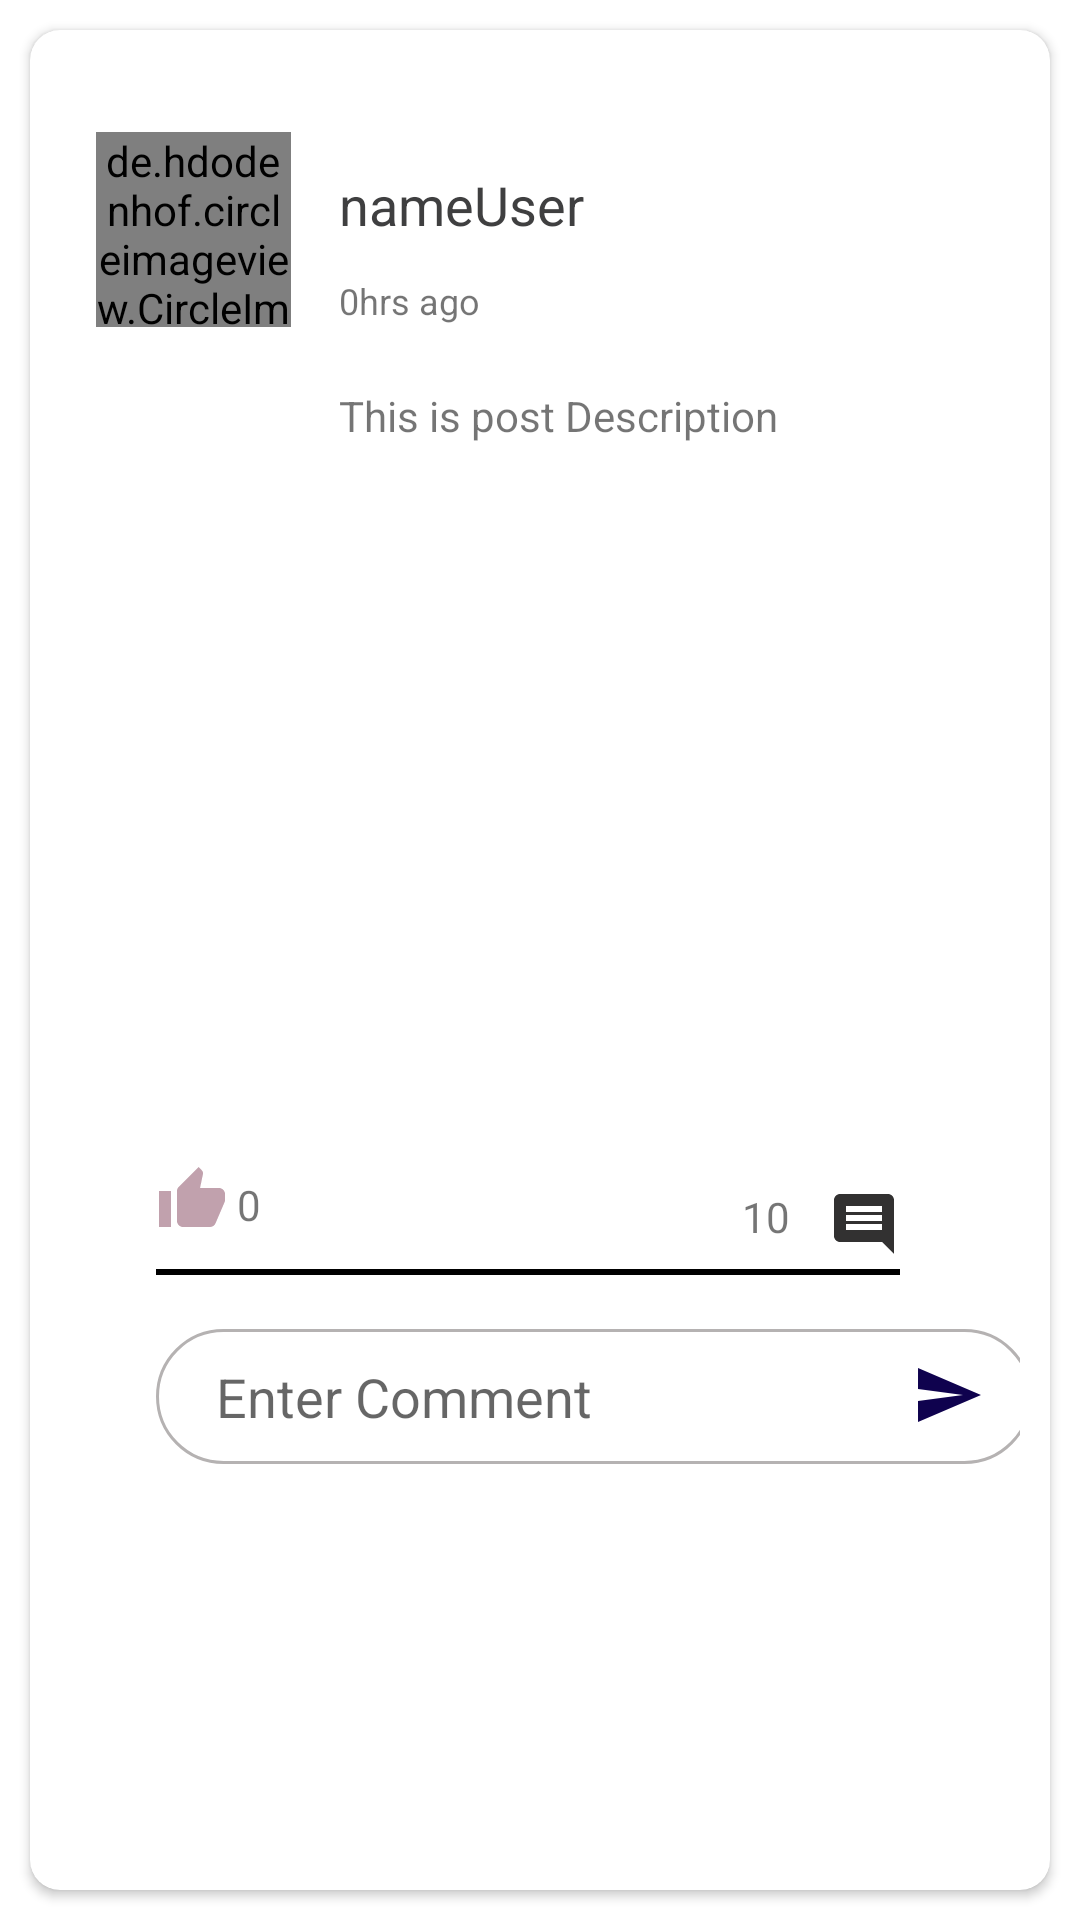

Icons on this 1080w x 1920h Android screen, each with the point to tap as (x=x, y=y):
post comment: (x=864, y=1224)
post like: (x=192, y=1197)
send: (x=949, y=1395)
